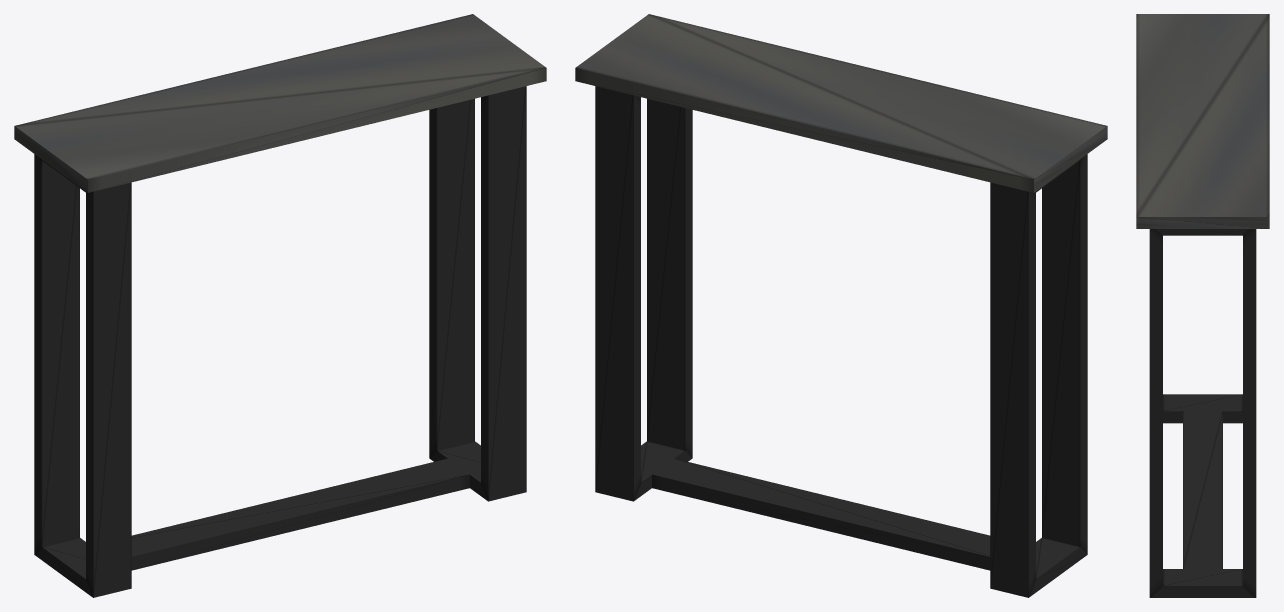
3 renders of one model, left to right at view 1: azimuth 30°, elevation 25°; view 2: azimuth 150°, elevation 25°; view 3: azimuth 270°, elevation 25°, orthographic. The views are drawn at different scales.
Visible parts, largest first — view 1: world; view 2: world; view 3: world.
Part boxes in pixels (left/top/right/bottom): world: left=14, top=14, right=546, bottom=597; world: left=575, top=14, right=1107, bottom=597; world: left=1136, top=14, right=1269, bottom=597.
Size of the model in its own units: 1.46 by 1.3 by 0.4066.
1 material, 1 textured.
